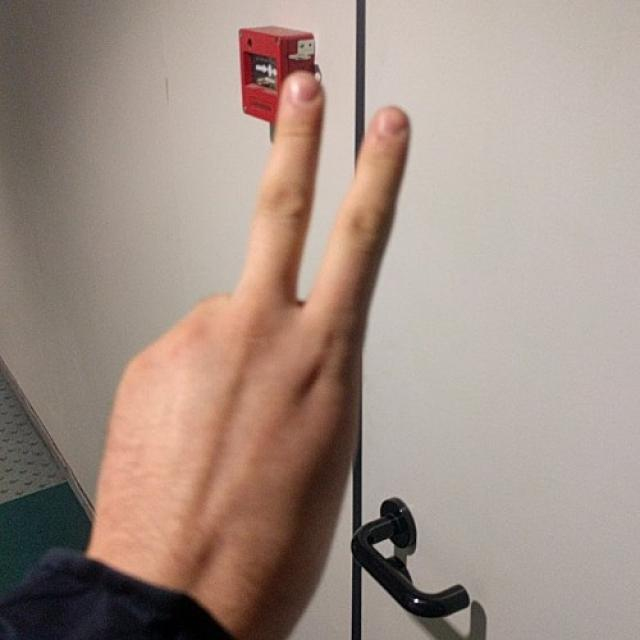scissors: (92, 68, 420, 564)
